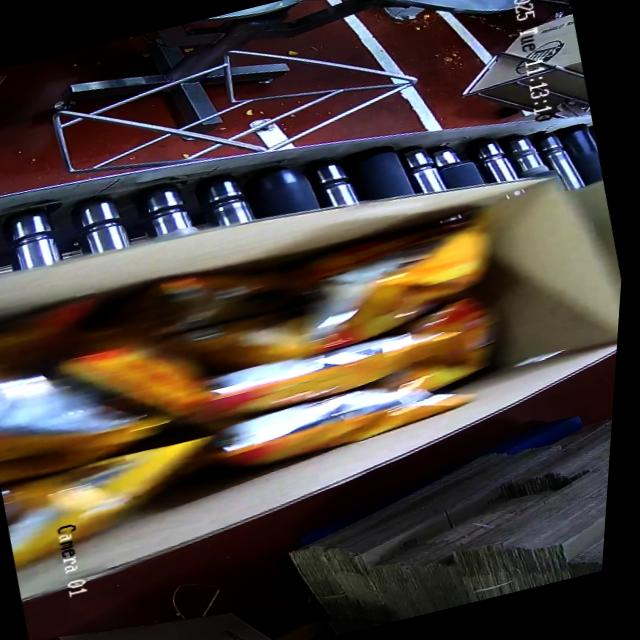FRENCH_CHEESE: (0, 197, 535, 540)
